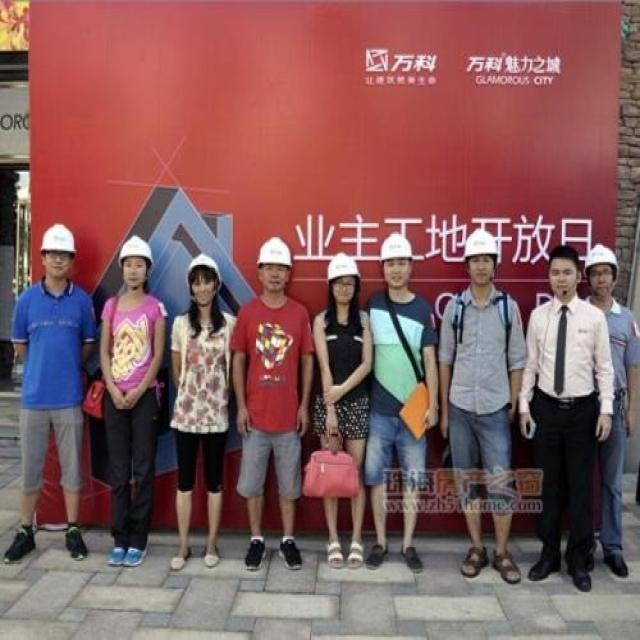Sin_Casco_Mascarrilla: (548, 252, 580, 292)
Sin_Chaleco: (239, 295, 309, 428), (15, 281, 85, 411), (444, 291, 519, 408)
